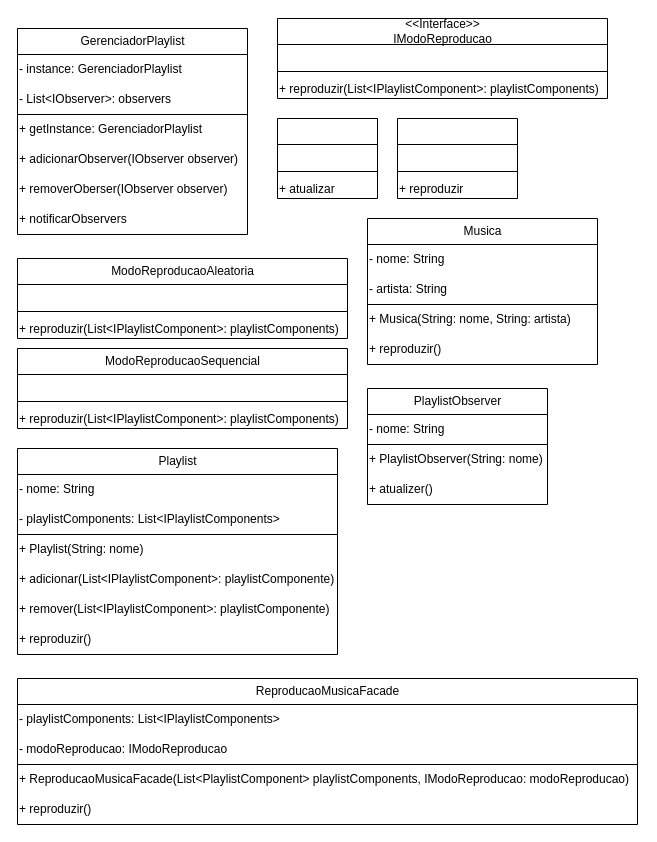
The diagram is 657 pixels wide and 842 high, and some of its shapes have lost their labels. The box of each missing label's shape, as (x1, y1, x2, y2) in pixels:
<<Interface>> IObserver: (276, 118, 378, 198)
<<Interface>> IPlaylistComponent: (396, 118, 518, 198)
